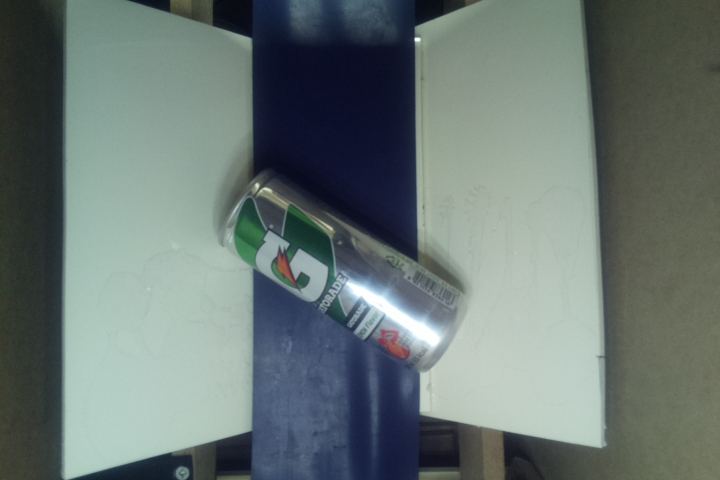can: (218, 170, 469, 378)
